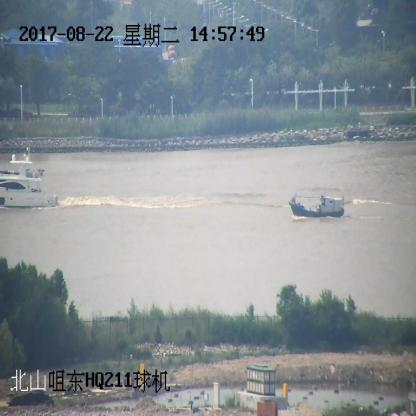Fishing Boat: (288, 191, 345, 220)
